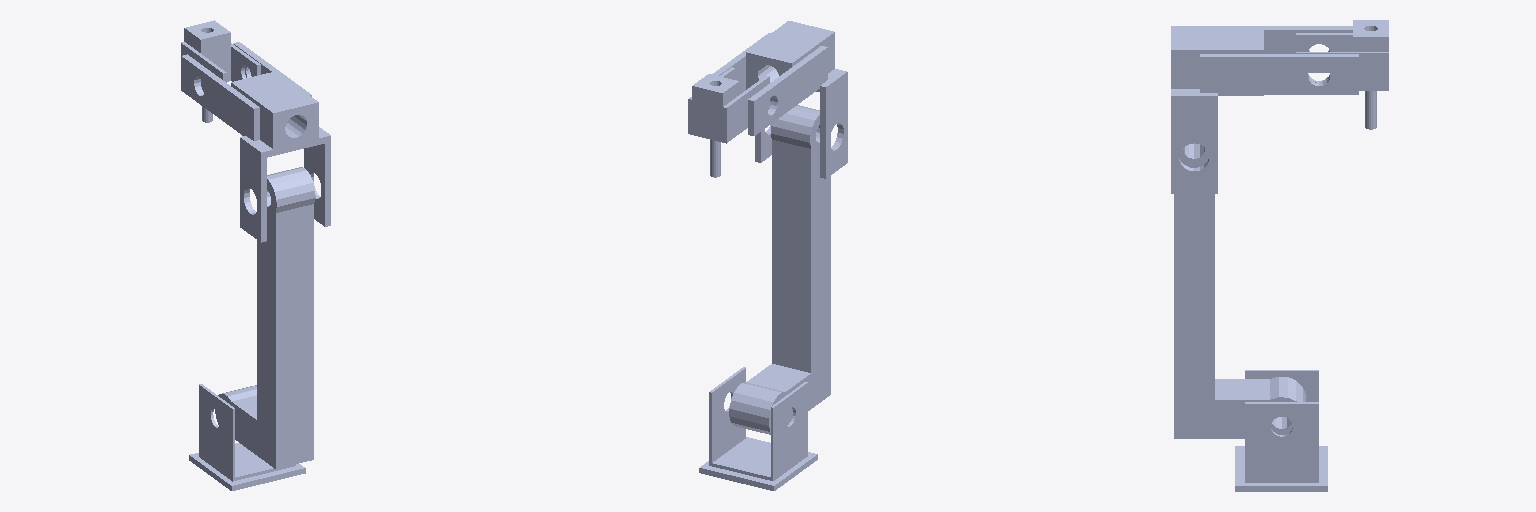
URDF robot description (arm_science_urdf_v2_2025):
<?xml version="1.0" encoding="utf-8"?>
<!-- This URDF was automatically created by SolidWorks to URDF Exporter! Originally created by [author] ([email redacted]) 
     Commit Version: 1.6.0-4-g7f85cfe  Build Version: 1.6.7995.38578
     For more information, please see http://wiki.ros.org/sw_urdf_exporter -->
<robot
  name="arm_science_urdf_v2_2025">
  <link
    name="base_link">
    <inertial>
      <origin
        xyz="-1.61607918420027E-18 -2.62011705457445E-18 0.00437247635063724"
        rpy="0 0 0" />
      <mass
        value="0.124661946710585" />
      <inertia
        ixx="0.000147804282431458"
        ixy="-2.46473848275475E-20"
        ixz="5.98569127931025E-22"
        iyy="0.000147804282431458"
        iyz="-1.58361038714387E-21"
        izz="0.000293922860163162" />
    </inertial>
    <visual>
      <origin
        xyz="0 0 0"
        rpy="0 0 0" />
      <geometry>
        <mesh
          filename="package://arm_science_urdf_v2_2025/meshes/base_link.STL" />
      </geometry>
      <material
        name="">
        <color
          rgba="0.792156862745098 0.819607843137255 0.933333333333333 1" />
      </material>
    </visual>
    <collision>
      <origin
        xyz="0 0 0"
        rpy="0 0 0" />
      <geometry>
        <mesh
          filename="package://arm_science_urdf_v2_2025/meshes/base_link.STL" />
      </geometry>
    </collision>
  </link>
  <link
    name="link_1">
    <inertial>
      <origin
        xyz="1.9697247504648E-17 -5.48442406081518E-07 0.0336041265825653"
        rpy="0 0 0" />
      <mass
        value="0.137634968166129" />
      <inertia
        ixx="0.000294001564310723"
        ixy="7.23213894615097E-20"
        ixz="-2.4475271589757E-19"
        iyy="0.000446367257769463"
        iyz="3.10211596831567E-09"
        izz="0.000373994827351756" />
    </inertial>
    <visual>
      <origin
        xyz="0 0 0"
        rpy="0 0 0" />
      <geometry>
        <mesh
          filename="package://arm_science_urdf_v2_2025/meshes/link_1.STL" />
      </geometry>
      <material
        name="">
        <color
          rgba="0.792156862745098 0.819607843137255 0.933333333333333 1" />
      </material>
    </visual>
    <collision>
      <origin
        xyz="0 0 0"
        rpy="0 0 0" />
      <geometry>
        <mesh
          filename="package://arm_science_urdf_v2_2025/meshes/link_1.STL" />
      </geometry>
    </collision>
  </link>
  <joint
    name="Joint_1"
    type="continuous">
    <origin
      xyz="0 0 0.0135"
      rpy="0 0 0" />
    <parent
      link="base_link" />
    <child
      link="link_1" />
    <axis
      xyz="0 0 1" />
  </joint>
  <link
    name="link_2">
    <inertial>
      <origin
        xyz="-0.0522125 -0.0966215327084989 0.148851302099507"
        rpy="0 0 0" />
      <mass
        value="1.79663833155198" />
      <inertia
        ixx="0.034948366475065"
        ixy="5.79714331968255E-19"
        ixz="1.46776781354339E-18"
        iyy="0.0329129866831077"
        iyz="0.00437798607290386"
        izz="0.00323311772636409" />
    </inertial>
    <visual>
      <origin
        xyz="0 0 0"
        rpy="0 0 0" />
      <geometry>
        <mesh
          filename="package://arm_science_urdf_v2_2025/meshes/link_2.STL" />
      </geometry>
      <material
        name="">
        <color
          rgba="0.792156862745098 0.819607843137255 0.933333333333333 1" />
      </material>
    </visual>
    <collision>
      <origin
        xyz="0 0 0"
        rpy="0 0 0" />
      <geometry>
        <mesh
          filename="package://arm_science_urdf_v2_2025/meshes/link_2.STL" />
      </geometry>
    </collision>
  </link>
  <joint
    name="Joint_2"
    type="continuous">
    <origin
      xyz="0.049213 1.25E-05 0.0747"
      rpy="0 0 0" />
    <parent
      link="link_1" />
    <child
      link="link_2" />
    <axis
      xyz="1 0 0" />
  </joint>
  <link
    name="link_3">
    <inertial>
      <origin
        xyz="-0.0519999999999999 0.0439448103746622 0.0941788323266333"
        rpy="0 0 0" />
      <mass
        value="0.835379809263028" />
      <inertia
        ixx="0.00285109721356341"
        ixy="4.24281939090332E-19"
        ixz="-1.56605634392135E-20"
        iyy="0.00205832059328011"
        iyz="-0.000294247168897304"
        izz="0.00213339156323276" />
    </inertial>
    <visual>
      <origin
        xyz="0 0 0"
        rpy="0 0 0" />
      <geometry>
        <mesh
          filename="package://arm_science_urdf_v2_2025/meshes/link_3.STL" />
      </geometry>
      <material
        name="">
        <color
          rgba="0.792156862745098 0.819607843137255 0.933333333333333 1" />
      </material>
    </visual>
    <collision>
      <origin
        xyz="0 0 0"
        rpy="0 0 0" />
      <geometry>
        <mesh
          filename="package://arm_science_urdf_v2_2025/meshes/link_3.STL" />
      </geometry>
    </collision>
  </link>
  <joint
    name="Joint_3"
    type="continuous">
    <origin
      xyz="-0.00021 -0.11299 0.38408"
      rpy="0 0 0" />
    <parent
      link="link_2" />
    <child
      link="link_3" />
    <axis
      xyz="1 0 0" />
  </joint>
  <link
    name="link_4">
    <inertial>
      <origin
        xyz="-0.0371250000000001 0.0564761253072448 0.00730060720519843"
        rpy="0 0 0" />
      <mass
        value="0.221172514457843" />
      <inertia
        ixx="0.000263084146702644"
        ixy="1.36690314104396E-20"
        ixz="2.96147889359359E-20"
        iyy="0.000181921460945624"
        iyz="-1.69928336676005E-05"
        izz="0.000254012067243754" />
    </inertial>
    <visual>
      <origin
        xyz="0 0 0"
        rpy="0 0 0" />
      <geometry>
        <mesh
          filename="package://arm_science_urdf_v2_2025/meshes/link_4.STL" />
      </geometry>
      <material
        name="">
        <color
          rgba="0.792156862745098 0.819607843137255 0.933333333333333 1" />
      </material>
    </visual>
    <collision>
      <origin
        xyz="0 0 0"
        rpy="0 0 0" />
      <geometry>
        <mesh
          filename="package://arm_science_urdf_v2_2025/meshes/link_4.STL" />
      </geometry>
    </collision>
  </link>
  <joint
    name="Joint_4"
    type="continuous">
    <origin
      xyz="-0.009875 0.161 0.11075"
      rpy="0 0 0" />
    <parent
      link="link_3" />
    <child
      link="link_4" />
    <axis
      xyz="1 0 0" />
  </joint>
  <link
    name="drill_bit">
    <inertial>
      <origin
        xyz="8.67361737988404E-19 1.38777878078145E-16 -0.0902999999999997"
        rpy="0 0 0" />
      <mass
        value="0.0176714586764426" />
      <inertia
        ixx="1.49747204513396E-05"
        ixy="1.04474634658391E-24"
        ixz="-9.02347851481604E-23"
        iyy="1.49747204513396E-05"
        iyz="1.86019641639696E-21"
        izz="4.97009775274947E-07" />
    </inertial>
    <visual>
      <origin
        xyz="0 0 0"
        rpy="0 0 0" />
      <geometry>
        <mesh
          filename="package://arm_science_urdf_v2_2025/meshes/drill_bit.STL" />
      </geometry>
      <material
        name="">
        <color
          rgba="0.792156862745098 0.819607843137255 0.933333333333333 1" />
      </material>
    </visual>
    <collision>
      <origin
        xyz="0 0 0"
        rpy="0 0 0" />
      <geometry>
        <mesh
          filename="package://arm_science_urdf_v2_2025/meshes/drill_bit.STL" />
      </geometry>
    </collision>
  </link>
  <joint
    name="Joint_5"
    type="continuous">
    <origin
      xyz="-0.037125 0.067 0.0483"
      rpy="0 0 0" />
    <parent
      link="link_4" />
    <child
      link="drill_bit" />
    <axis
      xyz="0 0 -1" />
  </joint>
</robot>

--- Facts derived from the render (not from the file) ---
The picture shows the robot from 3 angles, left to right: view 1: azimuth 30°, elevation 25°; view 2: azimuth 150°, elevation 25°; view 3: azimuth 270°, elevation 25°; orthographic projection.
Robot: arm_science_urdf_v2_2025 — 6 links, 5 joints (5 continuous); root link base_link; default pose: every joint at zero.
Links seen in each view (by area): view 1: link_2, link_3, link_1, link_4, base_link; view 2: link_2, link_3, link_1, link_4, base_link; view 3: link_3, link_2, link_1, link_4, base_link.
Link boxes in pixels (<box>): link_2: <box>215,167,315,468</box>; link_3: <box>181,42,330,242</box>; link_1: <box>199,384,295,481</box>; link_4: <box>181,20,260,91</box>; base_link: <box>189,443,305,490</box>; link_2: <box>729,105,830,434</box>; link_3: <box>712,21,847,178</box>; link_1: <box>709,367,807,480</box>; link_4: <box>688,67,769,143</box>; base_link: <box>699,437,817,490</box>; link_3: <box>1171,26,1358,193</box>; link_2: <box>1174,143,1305,438</box>; link_1: <box>1245,370,1318,482</box>; link_4: <box>1296,20,1388,90</box>; base_link: <box>1235,446,1327,491</box>.
Size in the robot's own frame: 0.12 by 0.281 by 0.6313 metres.
Meshes: 6 distinct files referenced, 6 mesh visuals loaded (6 binary STL).